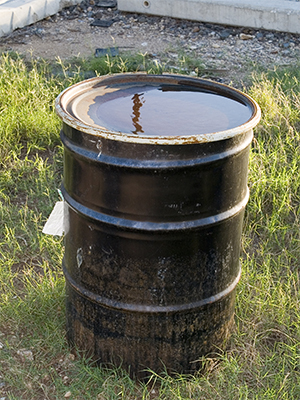water: (46, 53, 267, 387), (71, 72, 263, 139)
